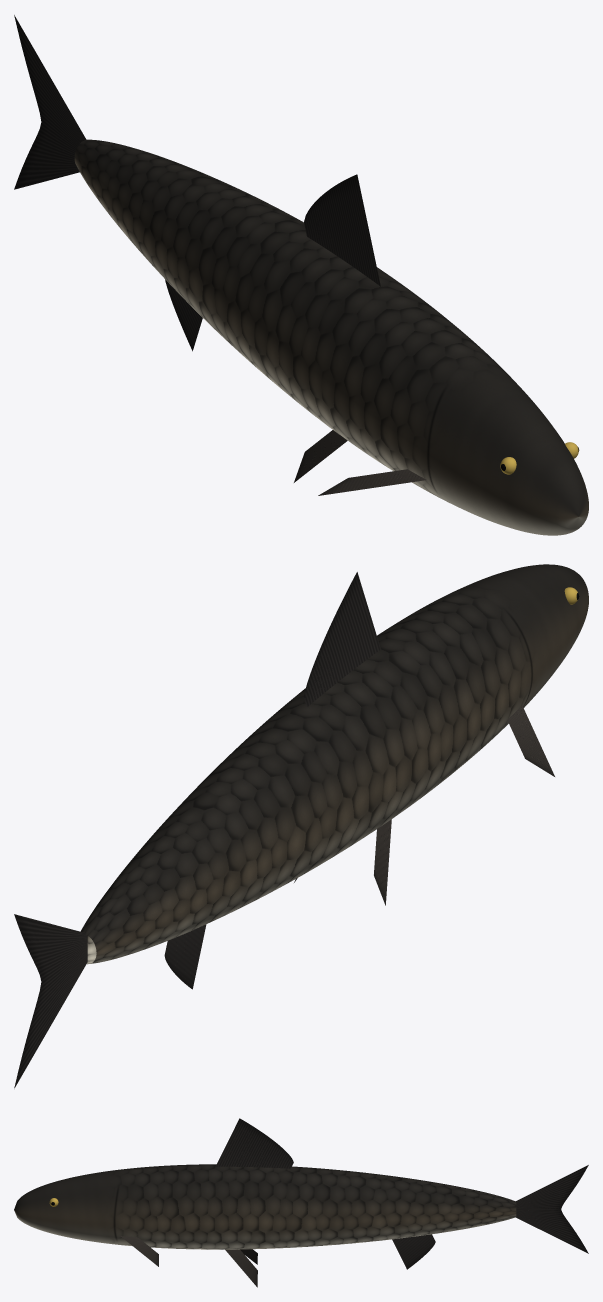
The model's file is chamur.obj.
3 views of the same model, one above another, from view 1: azimuth 30°, elevation 25°; view 2: azimuth 150°, elevation 25°; view 3: azimuth 270°, elevation 25° (orthographic). The views are drawn at different scales.
Parts seen in each view (by area): view 1: body, fin_tail, fin_dorsal0, fin_pect_R, fin_pelv_R, fin_anal0; view 2: body, fin_tail, fin_dorsal0, fin_anal0, fin_pect_R, fin_pelv_R; view 3: body, fin_tail, fin_dorsal0, fin_anal0, fin_pelv_L, fin_pect_L.
Boxes of the visible parts, bbox=[...] form: body: bbox=[74, 139, 588, 535]; fin_tail: bbox=[14, 15, 86, 189]; fin_dorsal0: bbox=[304, 174, 380, 286]; fin_pect_R: bbox=[318, 469, 426, 495]; fin_pelv_R: bbox=[294, 430, 347, 482]; fin_anal0: bbox=[165, 279, 202, 351]; body: bbox=[80, 564, 588, 964]; fin_tail: bbox=[14, 914, 87, 1088]; fin_dorsal0: bbox=[304, 572, 380, 706]; fin_anal0: bbox=[164, 924, 206, 989]; fin_pect_R: bbox=[507, 705, 554, 776]; fin_pelv_R: bbox=[374, 819, 391, 905]; body: bbox=[14, 1164, 516, 1249]; fin_tail: bbox=[515, 1165, 588, 1253]; fin_dorsal0: bbox=[215, 1118, 293, 1168]; fin_anal0: bbox=[392, 1234, 435, 1269]; fin_pelv_L: bbox=[225, 1249, 257, 1287]; fin_pect_L: bbox=[120, 1236, 158, 1266].
Size of the model in its own units: 0.1947 by 0.2428 by 0.8.
Materials: 5 (3 with a texture image).
